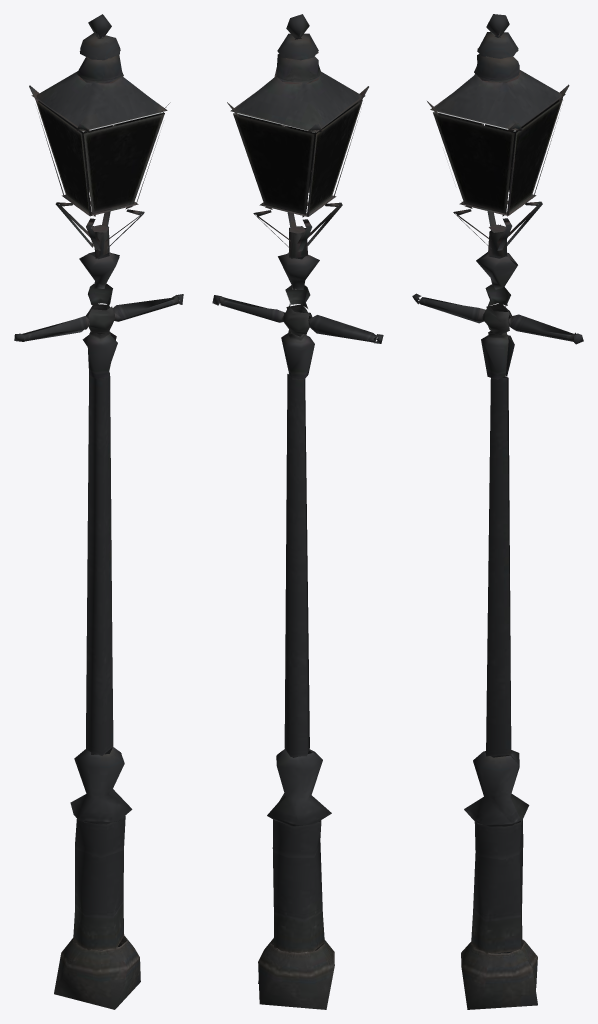
Rendered from prop_street_lamp.glb.
3 views of the same model, side by side, from view 1: azimuth 30°, elevation 25°; view 2: azimuth 150°, elevation 25°; view 3: azimuth 330°, elevation 25° (orthographic).
Parts seen in each view (by area): view 1: prop_street_lamp; view 2: prop_street_lamp; view 3: prop_street_lamp.
Part boxes in pixels (x1=…): prop_street_lamp: x1=14, y1=14, x2=183, y2=1009; prop_street_lamp: x1=212, y1=14, x2=383, y2=1009; prop_street_lamp: x1=412, y1=14, x2=583, y2=1009.
Bounding box in the file's own units: 0.7583 × 4.2 × 0.4135.
Materials: 1 (1 with a texture image).
